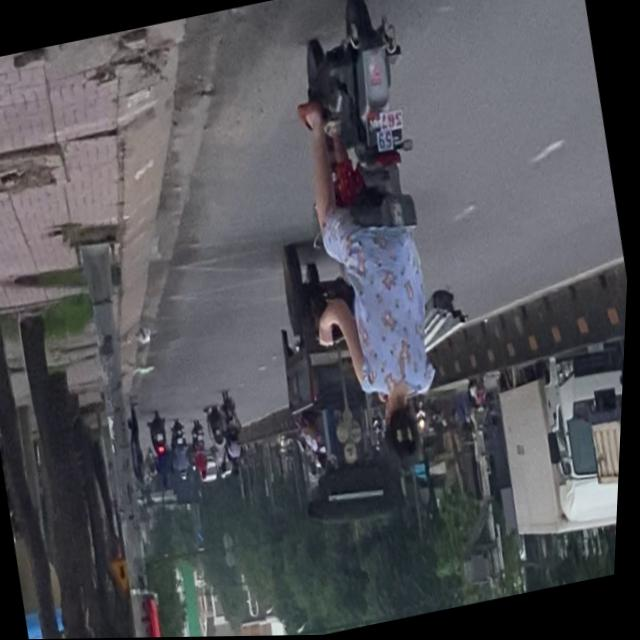licenseplate: (258, 0, 499, 498)
motorcyclist: (377, 385, 436, 478)
